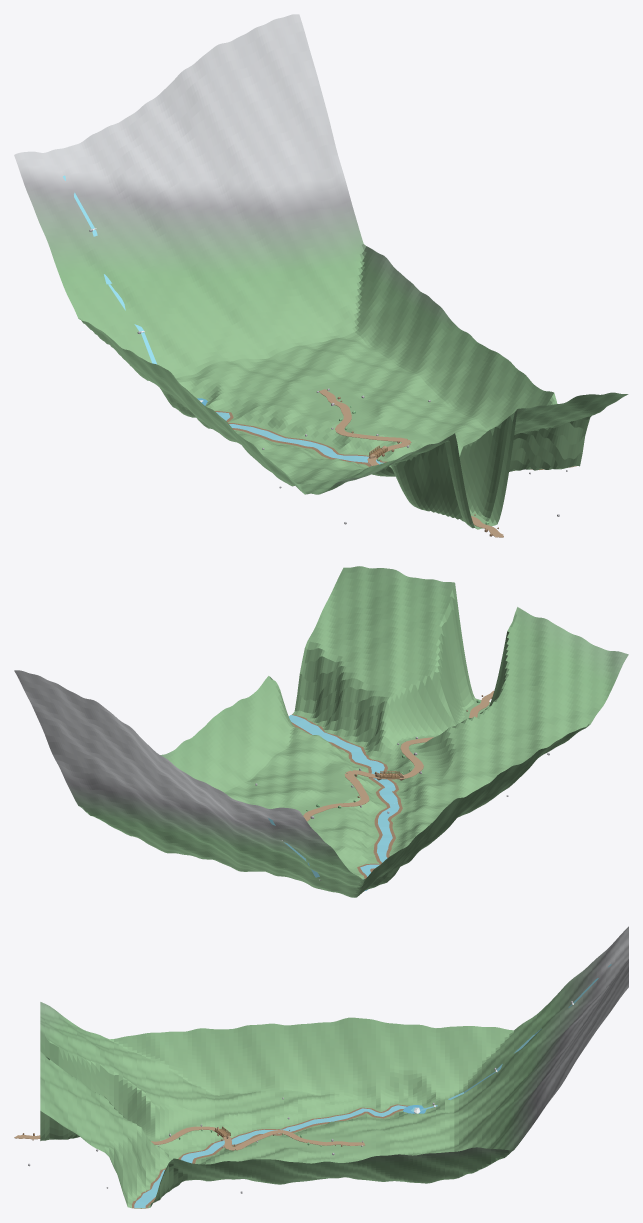
File: landscape.glb
3 views of the same model, one above another, from view 1: azimuth 30°, elevation 25°; view 2: azimuth 150°, elevation 25°; view 3: azimuth 270°, elevation 25° (orthographic). The views are drawn at different scales.
Visible parts, largest first — view 1: Ground, WATER_River_Main, Riverbed_Main; view 2: Ground, WATER_River_Main, Riverbed_Main; view 3: Ground, WATER_River_Main, Riverbed_Main.
Part boxes in pixels (x1,y1,x2,y2): Ground: [14, 14, 628, 529]; WATER_River_Main: [216, 412, 384, 464]; Riverbed_Main: [215, 411, 576, 470]; Ground: [14, 566, 628, 897]; WATER_River_Main: [289, 715, 399, 876]; Riverbed_Main: [291, 714, 402, 878]; Ground: [40, 926, 628, 1208]; WATER_River_Main: [134, 1105, 414, 1207]; Riverbed_Main: [132, 1104, 409, 1208].
Size of the model in its own units: 100 by 84.04 by 209.
